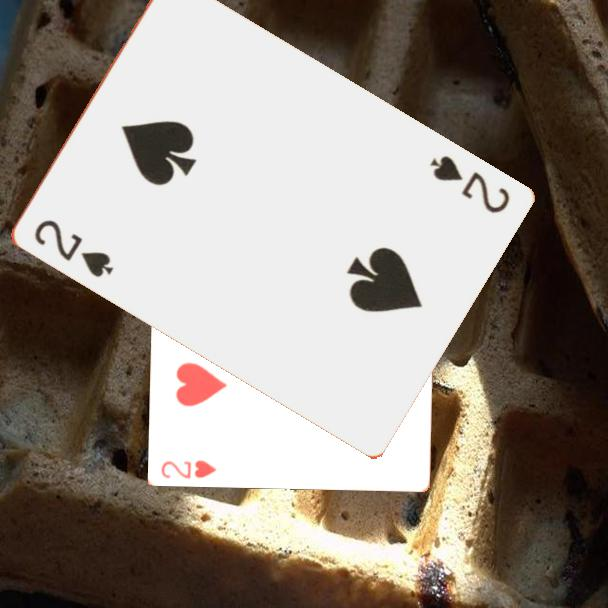h02: (158, 456, 220, 481)
s02: (425, 152, 512, 217), (30, 216, 116, 281)
